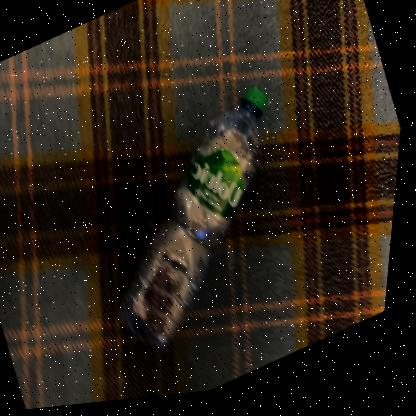Plastic: (124, 90, 269, 351)
